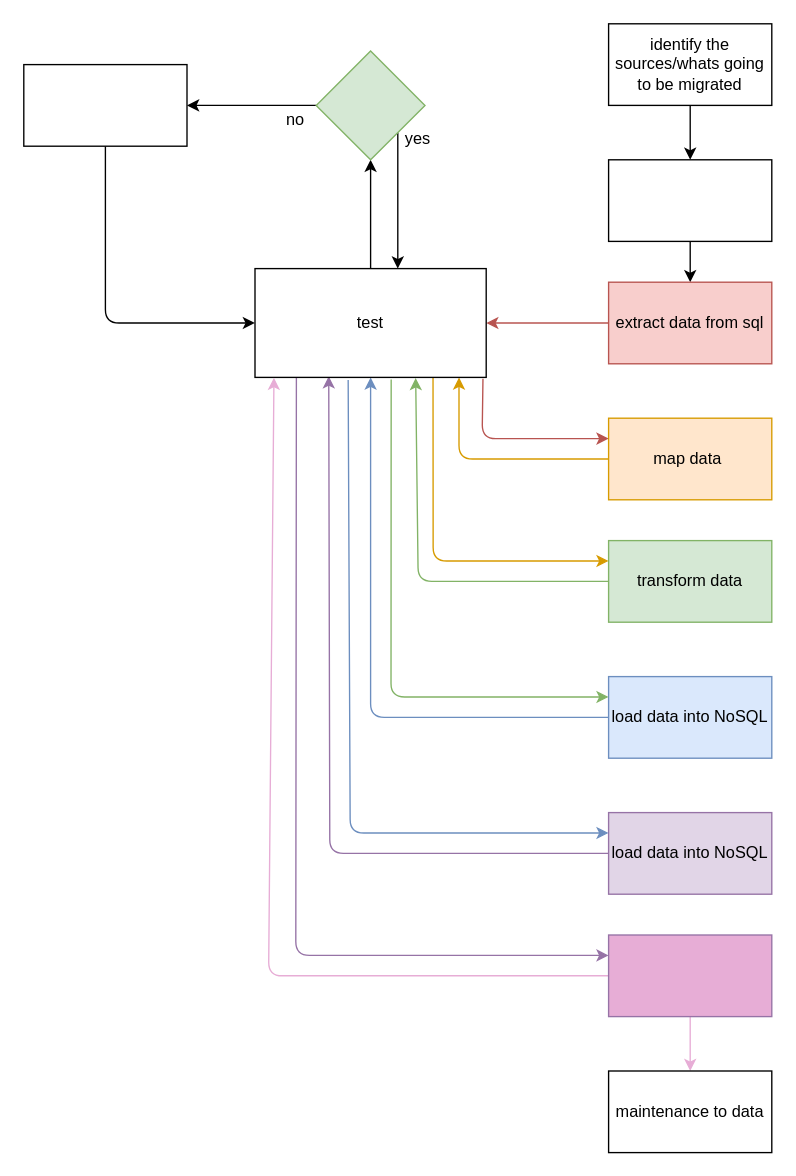
Image size: 796x1176. Some labels were removed from this diagram. Here are the shapes that lost their labels. From the top down, the box of each, then its label:
(22, 63, 187, 146): troubleshoot
(315, 50, 425, 160): is successful?
(607, 158, 772, 241): analyze what data structure will be used once converted to NoSQL
(607, 934, 772, 1017): verify/handle data
